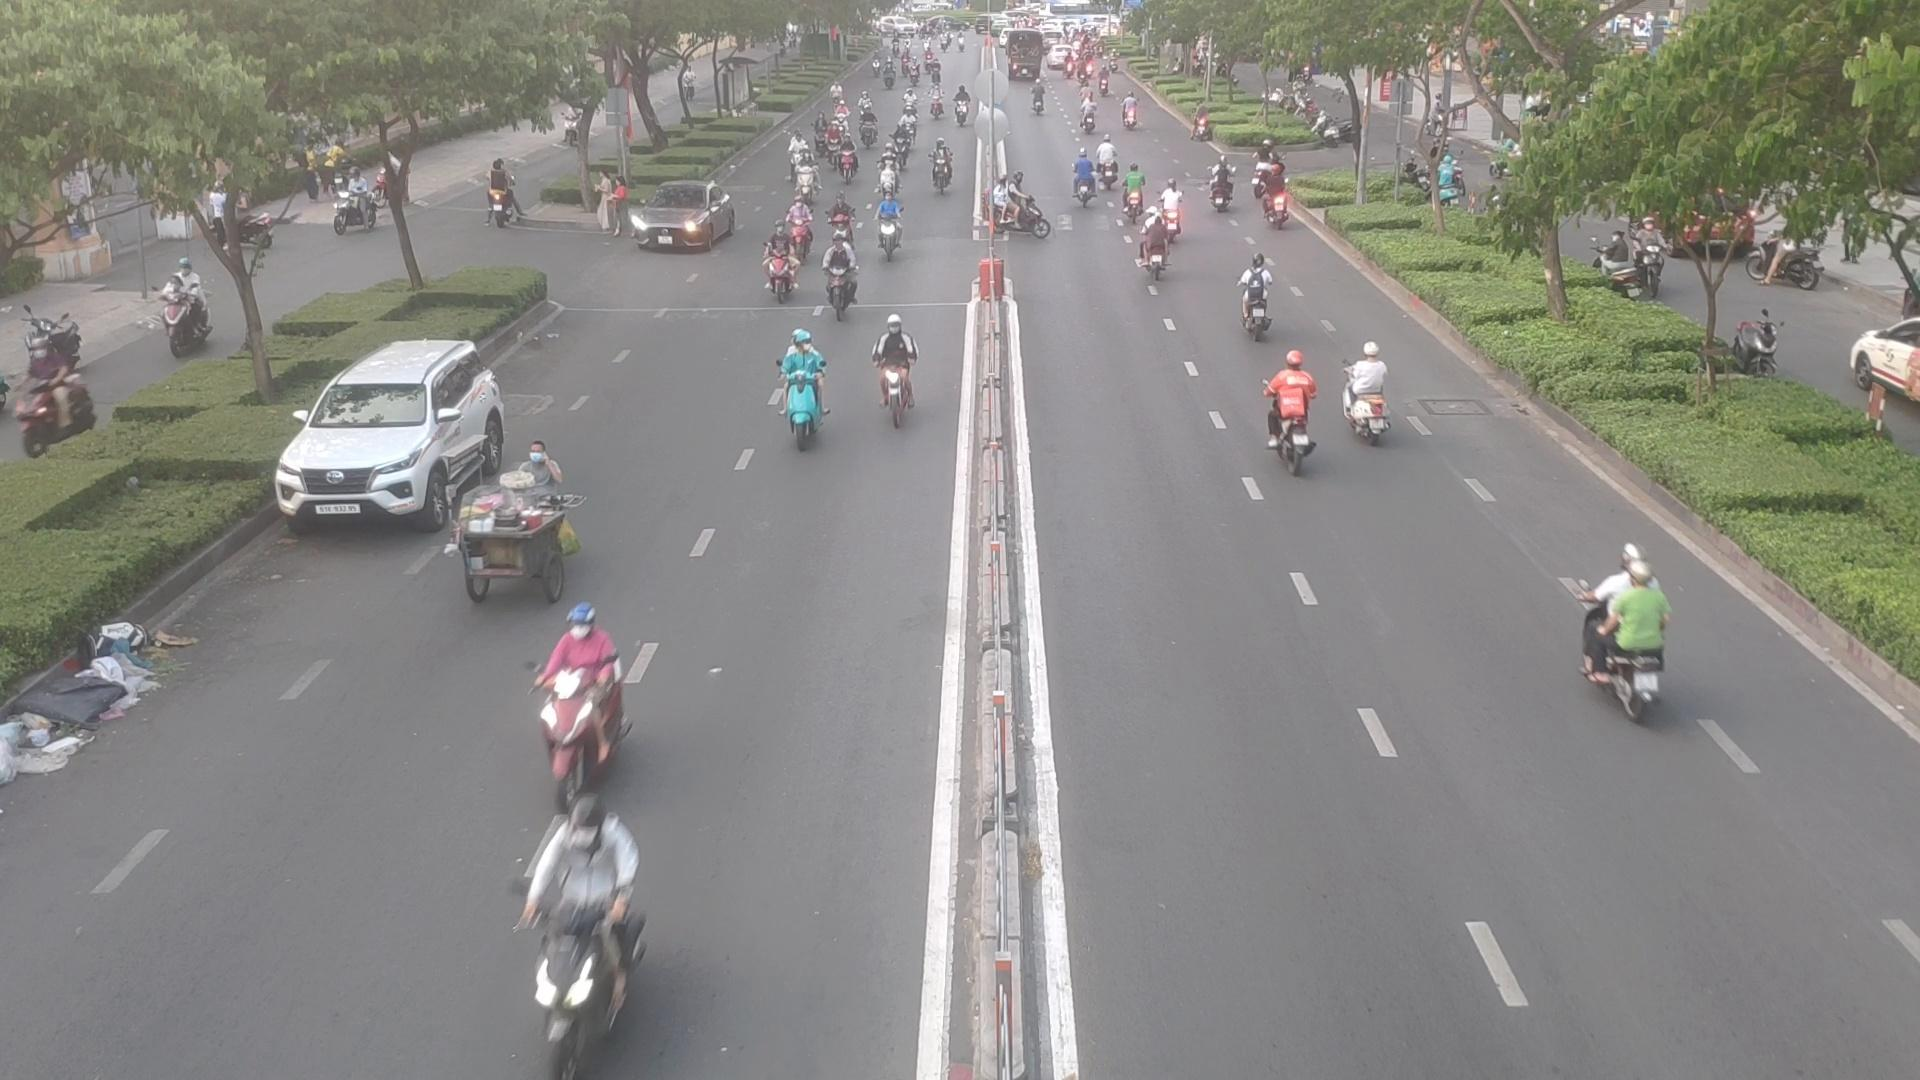car: (276, 349, 522, 535), (617, 193, 750, 255)
motorbike: (512, 787, 647, 1080), (514, 615, 637, 791), (444, 450, 576, 605), (1568, 555, 1680, 728), (1253, 363, 1327, 475), (769, 336, 837, 452), (1338, 353, 1407, 450), (865, 322, 922, 430), (1236, 265, 1286, 342), (756, 233, 800, 305), (822, 251, 865, 316), (775, 206, 818, 265), (868, 202, 909, 262), (1067, 156, 1112, 208), (1138, 225, 1174, 280), (928, 150, 957, 196), (833, 142, 862, 183)
